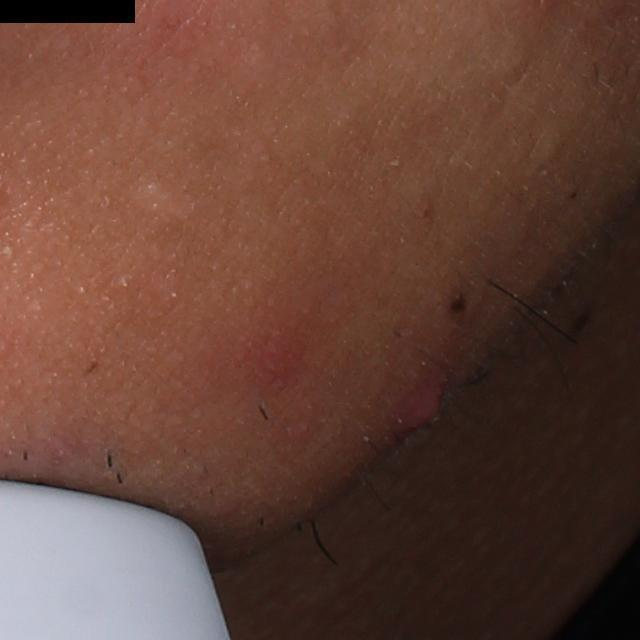nevus: (447, 288, 474, 327)
papule: (219, 318, 311, 388), (387, 368, 449, 443)
